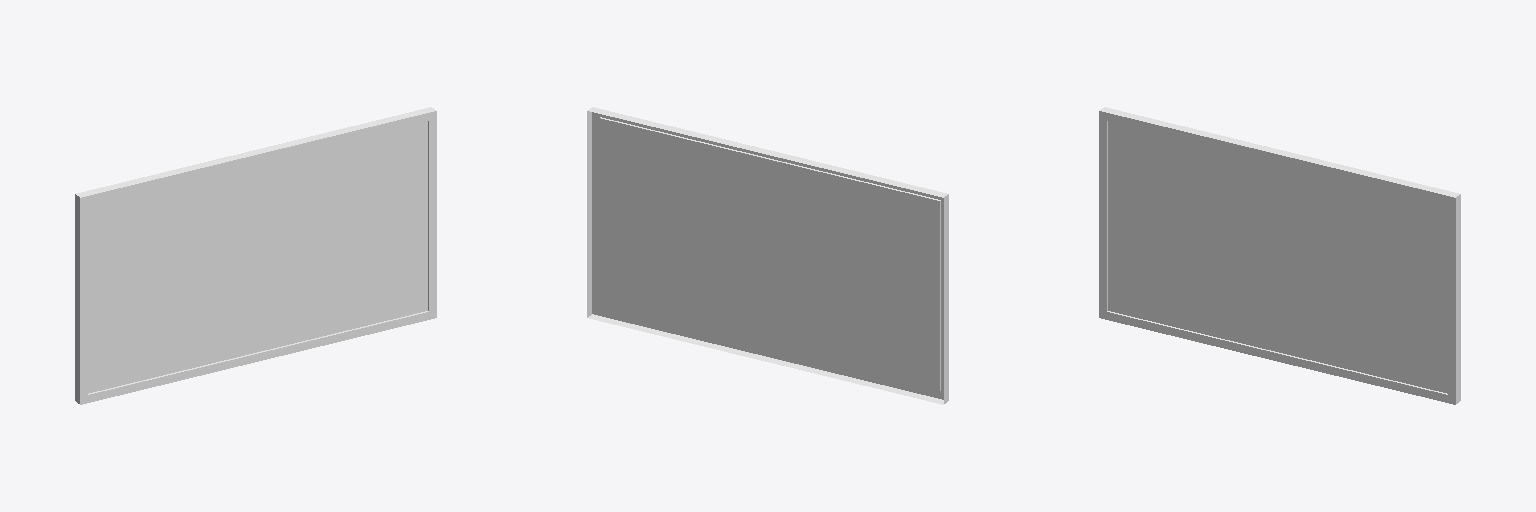
File: Picture.obj
3 renders of one model, left to right at view 1: azimuth 30°, elevation 25°; view 2: azimuth 150°, elevation 25°; view 3: azimuth 330°, elevation 25°, orthographic.
Parts seen in each view (by area): view 1: Cube; view 2: Cube; view 3: Cube.
Part boxes in pixels (x1,y1,x2,y2): Cube: (75, 107, 436, 404); Cube: (587, 107, 948, 404); Cube: (1099, 107, 1460, 404).
Bounding box in the file's own units: 0.9 × 0.5 × 0.0231.